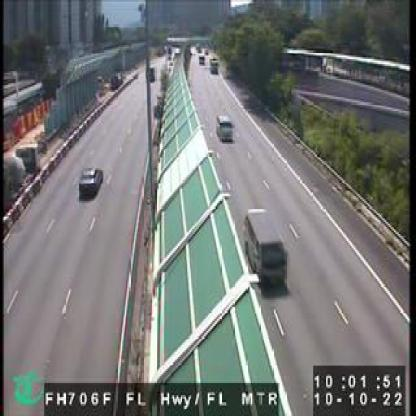Car: (244, 213, 290, 287), (78, 168, 104, 198), (218, 114, 235, 140)
Truck: (209, 56, 220, 75)
